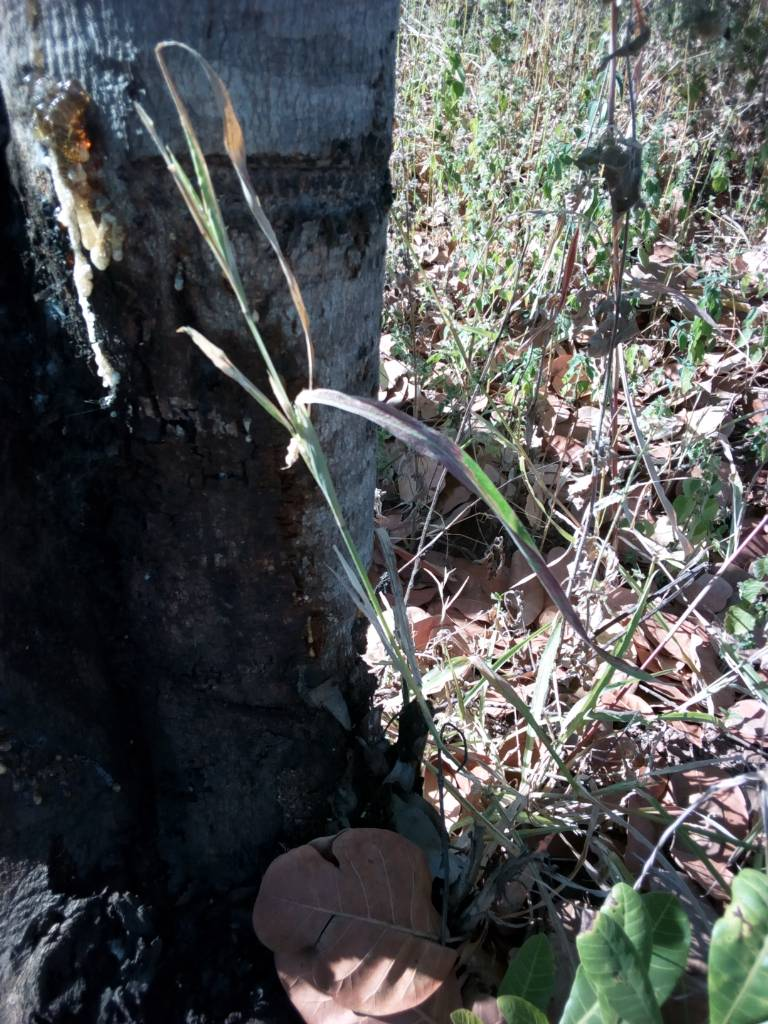Gommose: (5, 291, 311, 825)
